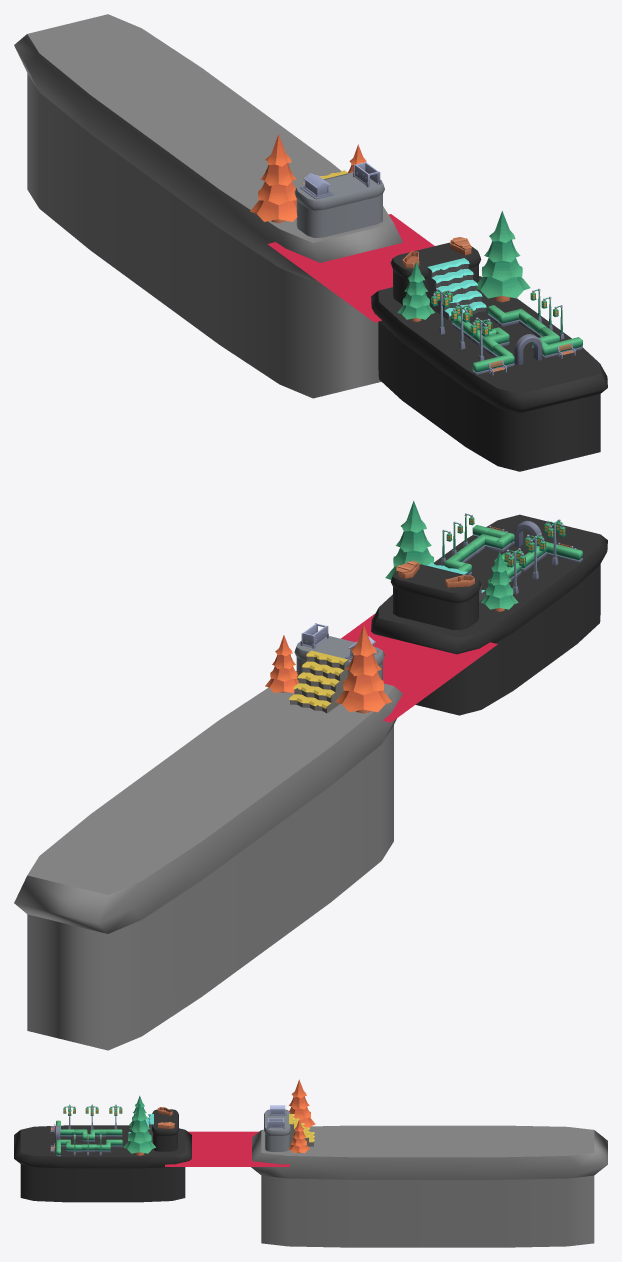
Rendered from shadowland.glb.
3 views of the same model, one above another, from view 1: azimuth 30°, elevation 25°; view 2: azimuth 150°, elevation 25°; view 3: azimuth 270°, elevation 25° (orthographic). The views are drawn at different scales.
Parts seen in each view (by area): view 1: maze-ground-col, arc-ground-col, bridge-liquid, bridge-far-ground-col, pine-r-col, maze-pine-l-col, bridge-near-stairs-col, bridge-near-ground-col, pine-l-col, arc-hedge-inside-r-col, arc-hedge-inside-l-col; view 2: maze-ground-col, arc-ground-col, bridge-liquid, bridge-near-ground-col, bridge-far-stairs-col, maze-pine-l-col, pine-r-col, pine-l-col, bridge-far-ground-col, arc-hedge-inside-r-col, maze-pine-r-col; view 3: maze-ground-col, arc-ground-col, bridge-liquid, bridge-near-ground-col, pine-r-col, bridge-far-ground-col, maze-pine-l-col, arc-hedge-inside-r-col, arc-hedge-inside-l-col, maze-pine-r-col, bridge-far-stairs-col.
Part boxes in pixels (x1,y1,x2,y2): maze-ground-col: (14,14,402,398); arc-ground-col: (371,276,607,471); bridge-liquid: (267,214,434,322); bridge-far-ground-col: (294,172,384,237); pine-r-col: (477,211,530,302); maze-pine-l-col: (250,134,297,223); bridge-near-stairs-col: (427,258,486,320); bridge-near-ground-col: (390,242,481,304); pine-l-col: (397,261,434,321); arc-hedge-inside-r-col: (488,305,559,354); arc-hedge-inside-l-col: (452,315,512,357); maze-ground-col: (14,683,402,1050); arc-ground-col: (371,514,607,715); bridge-liquid: (296,614,497,722); bridge-near-ground-col: (390,564,480,630); bridge-far-stairs-col: (289,650,348,713); maze-pine-l-col: (335,625,391,713); pine-r-col: (385,501,434,579); pine-l-col: (481,551,518,611); bridge-far-ground-col: (294,636,384,680); arc-hedge-inside-r-col: (444,533,512,575); maze-pine-r-col: (265,635,298,693); maze-ground-col: (251,1125,607,1247); arc-ground-col: (14,1125,191,1202); bridge-liquid: (165,1131,289,1166); bridge-near-ground-col: (152,1109,178,1151); pine-r-col: (123,1103,155,1155); bridge-far-ground-col: (264,1109,290,1151); maze-pine-l-col: (289,1079,315,1127); arc-hedge-inside-r-col: (58,1139,122,1152); arc-hedge-inside-l-col: (60,1129,122,1141); maze-pine-r-col: (288,1119,309,1153); bridge-far-stairs-col: (289,1114,314,1146).
Bounding box in the file's own units: 106 × 188 × 714.
Materials: 41 (32 with a texture image).
